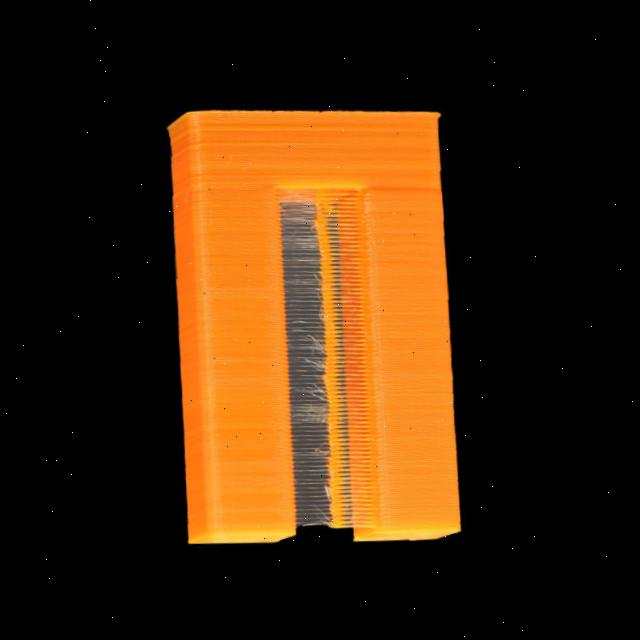stringing: (281, 182, 384, 534)
